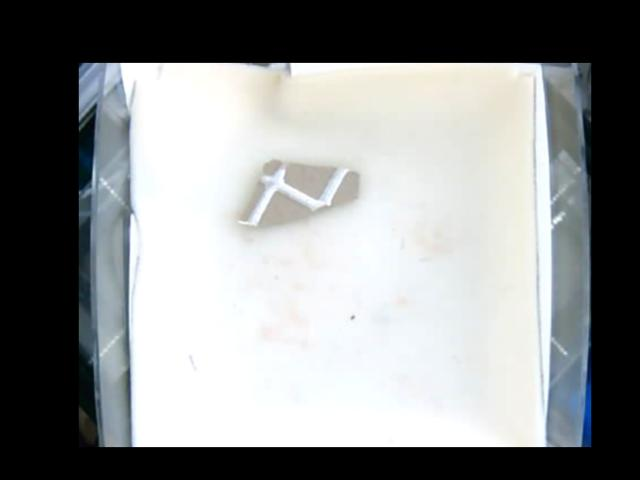China: (238, 160, 362, 229)
